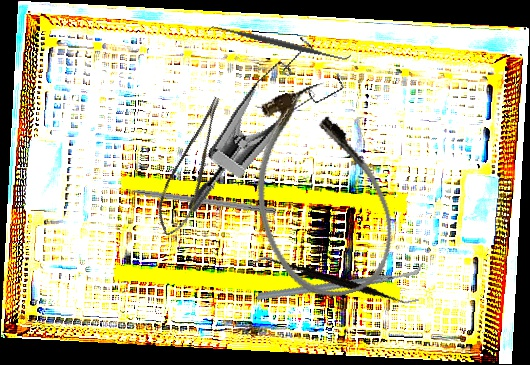Cannula: (229, 74, 409, 312)
Chopper: (256, 222, 423, 341)
Hook Surgical: (105, 183, 277, 215)
Micro Scissor: (145, 94, 244, 241)
Spatula Surgical: (249, 218, 421, 346), (208, 17, 352, 69)
Speculum: (183, 20, 357, 249)
